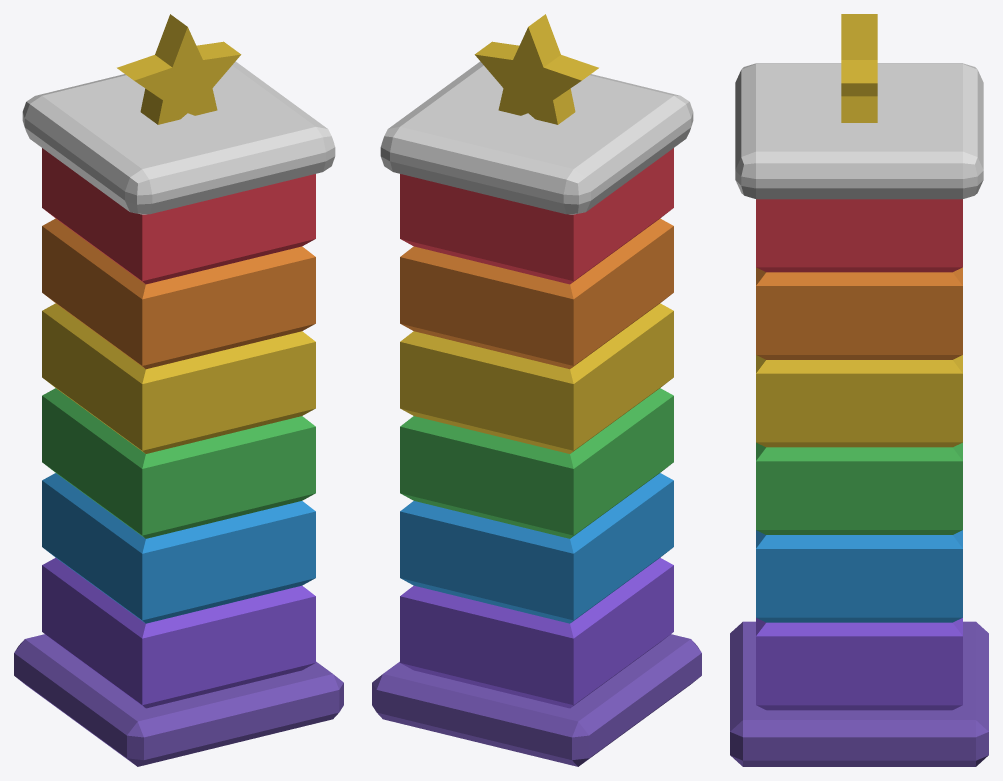
Rendered from carnival-post.glb.
3 renders of one model, left to right at view 1: azimuth 30°, elevation 25°; view 2: azimuth 150°, elevation 25°; view 3: azimuth 270°, elevation 25°, orthographic. The views are drawn at different scales.
Parts seen in each view (by area): view 1: carnival-post; view 2: carnival-post; view 3: carnival-post.
Boxes of the visible parts, box(x1,y1,x2,y2) form: carnival-post: box(14, 14, 343, 766); carnival-post: box(372, 14, 701, 766); carnival-post: box(730, 14, 988, 766).
Bounding box in the file's own units: 0.5 × 1.5 × 0.5.
